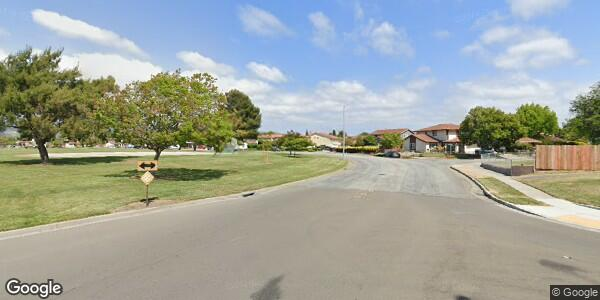Steel_Pole: (338, 98, 351, 161)
